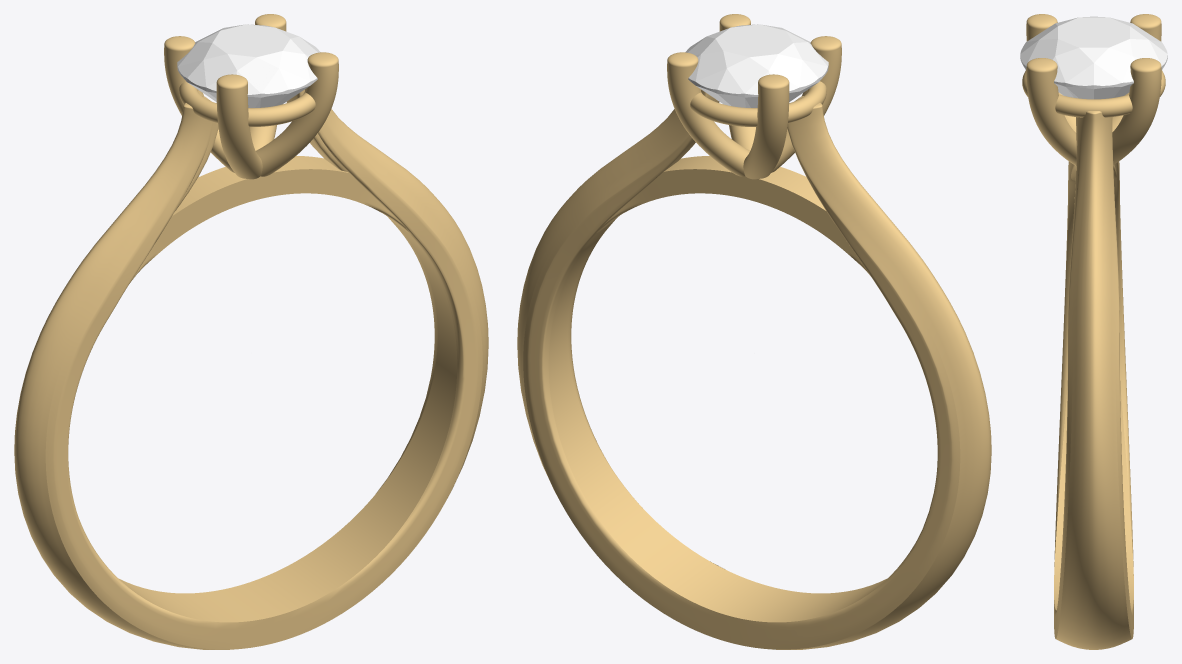
File: vienna-cathedral-solitaire-ring.glb
3 views of the same model, side by side, from view 1: azimuth 30°, elevation 25°; view 2: azimuth 150°, elevation 25°; view 3: azimuth 270°, elevation 25° (orthographic).
Parts seen in each view (by area): view 1: Shank, Head, diamond_Mesh_0; view 2: Shank, Head, diamond_Mesh_0; view 3: Shank, Head, diamond_Mesh_0.
Part boxes in pixels (bbox=[...]): Shank: bbox=[14, 90, 488, 649]; Head: bbox=[164, 14, 338, 179]; diamond_Mesh_0: bbox=[177, 24, 320, 107]; Shank: bbox=[517, 90, 991, 649]; Head: bbox=[667, 14, 841, 179]; diamond_Mesh_0: bbox=[685, 24, 828, 107]; Shank: bbox=[1054, 111, 1133, 649]; Head: bbox=[1022, 14, 1165, 165]; diamond_Mesh_0: bbox=[1020, 16, 1167, 99].
Size of the model in its own units: 2.5 by 3.03 by 0.683.
